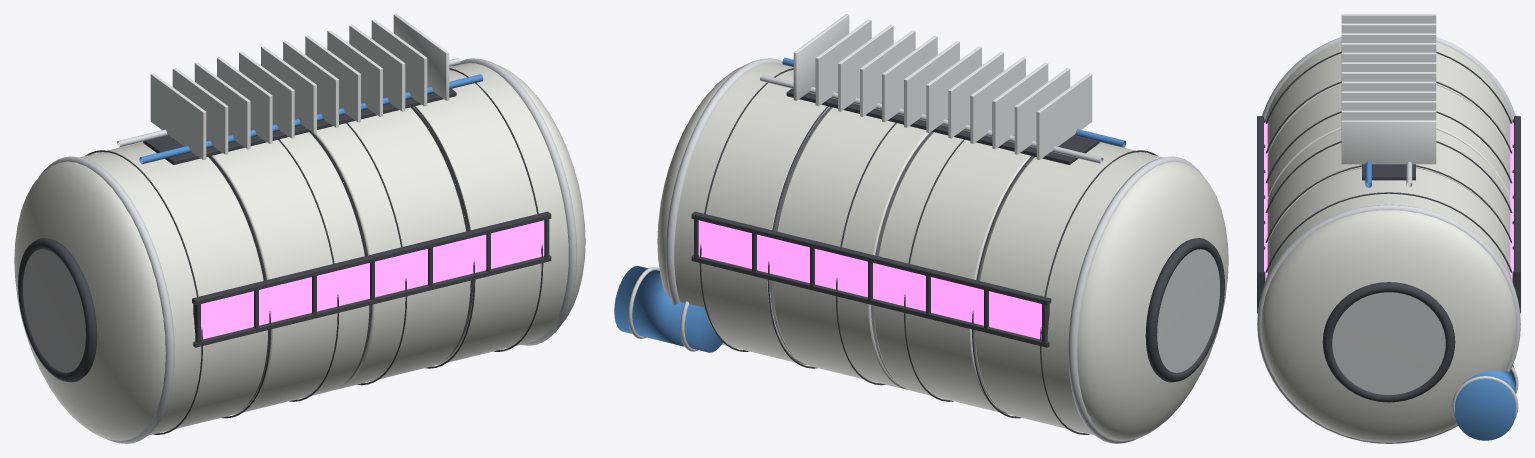
The model's file is greenhouse.glb.
The picture shows the model from 3 angles, left to right: view 1: azimuth 30°, elevation 25°; view 2: azimuth 150°, elevation 25°; view 3: azimuth 270°, elevation 25°; orthographic projection. The views are drawn at different scales.
Visible parts, largest first — view 1: greenhouse; view 2: greenhouse; view 3: greenhouse.
Part boxes in pixels (x1=…): greenhouse: x1=14, y1=14, x2=585, y2=443; greenhouse: x1=614, y1=14, x2=1228, y2=443; greenhouse: x1=1257, y1=14, x2=1520, y2=443.
Size of the model in its own units: 7.74 by 4.7 by 3.9.
